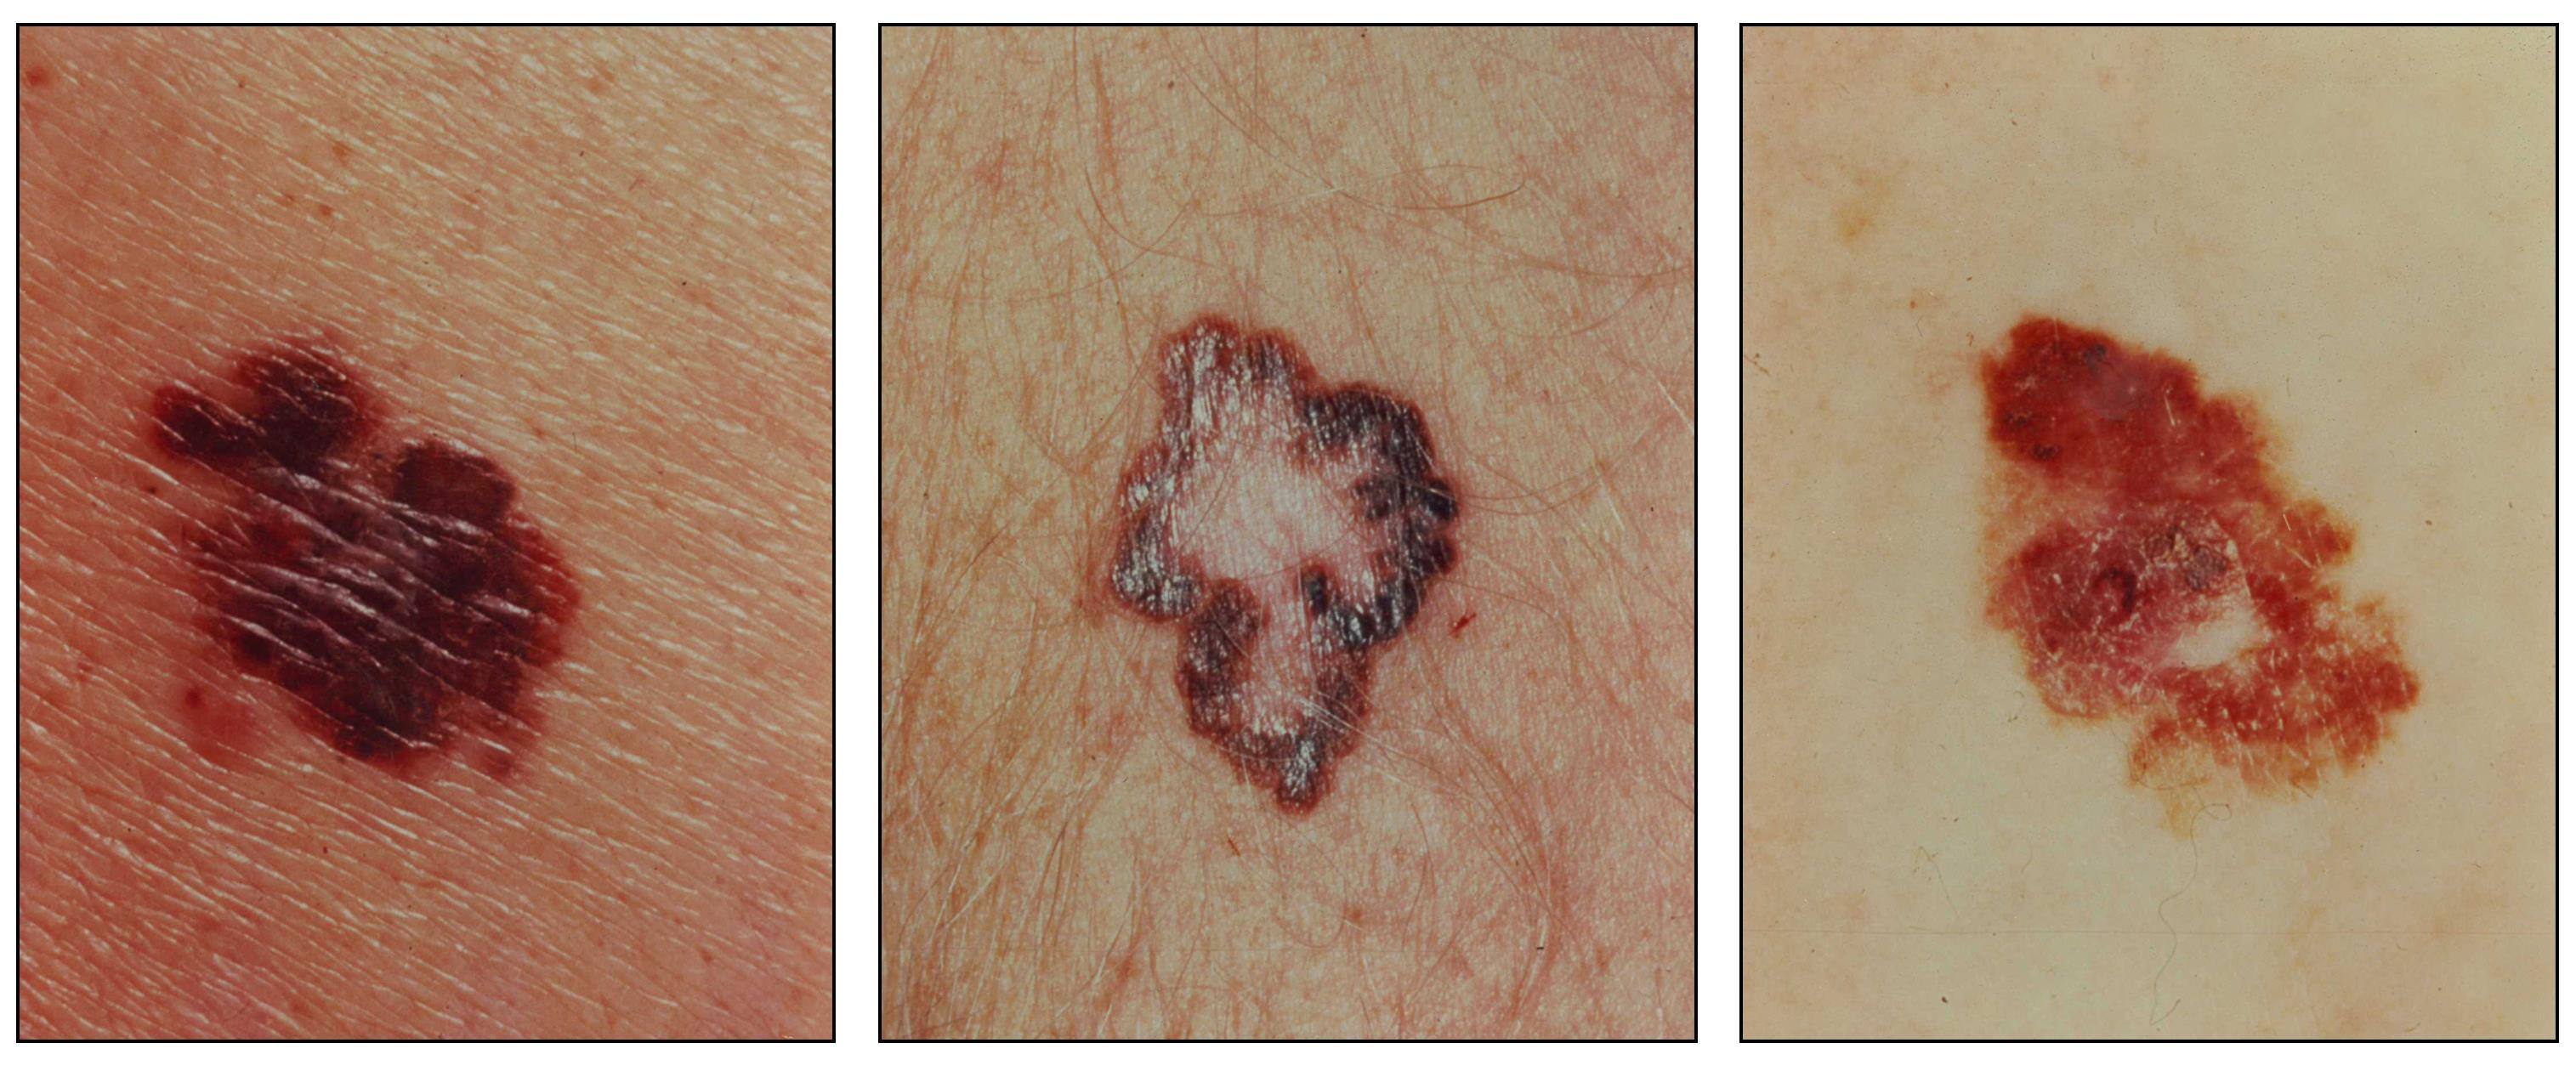Melanoma: (1950, 278, 2464, 807), (141, 314, 598, 833), (1086, 291, 1493, 846)
